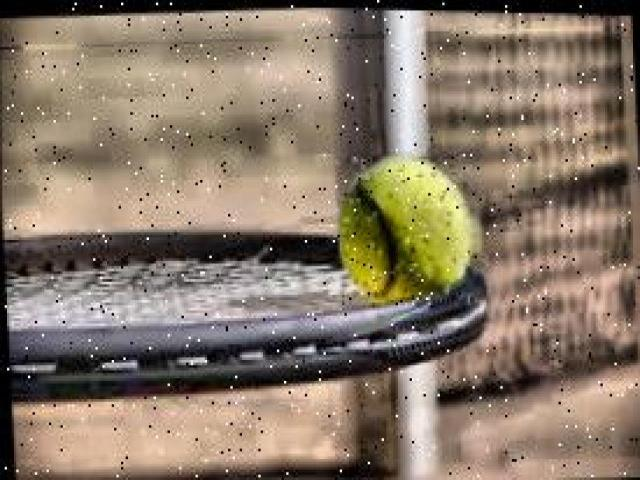tennis-ball: (337, 156, 479, 306)
